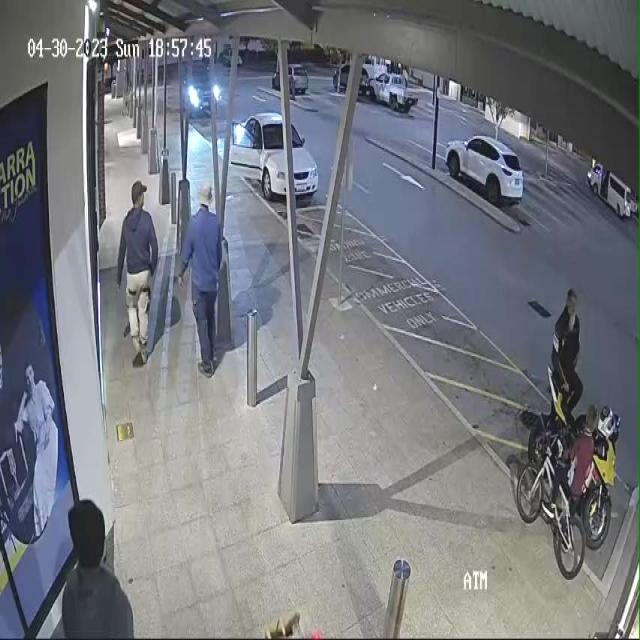Car: (226, 104, 326, 213), (439, 122, 523, 220), (575, 148, 640, 236), (173, 57, 228, 124), (266, 53, 312, 98), (333, 54, 370, 100)
Truck: (361, 65, 419, 119)
